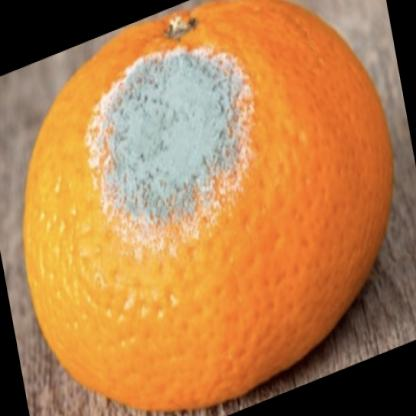rotten: (26, 4, 393, 412)
